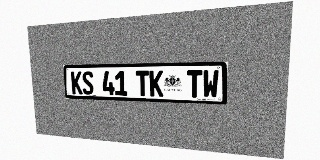1: (114, 71, 127, 96)
4: (102, 71, 115, 95)
K: (149, 70, 163, 97), (71, 71, 83, 94)
S: (82, 71, 94, 95)
T: (187, 70, 202, 98), (136, 71, 149, 96)
W: (203, 70, 219, 98)
